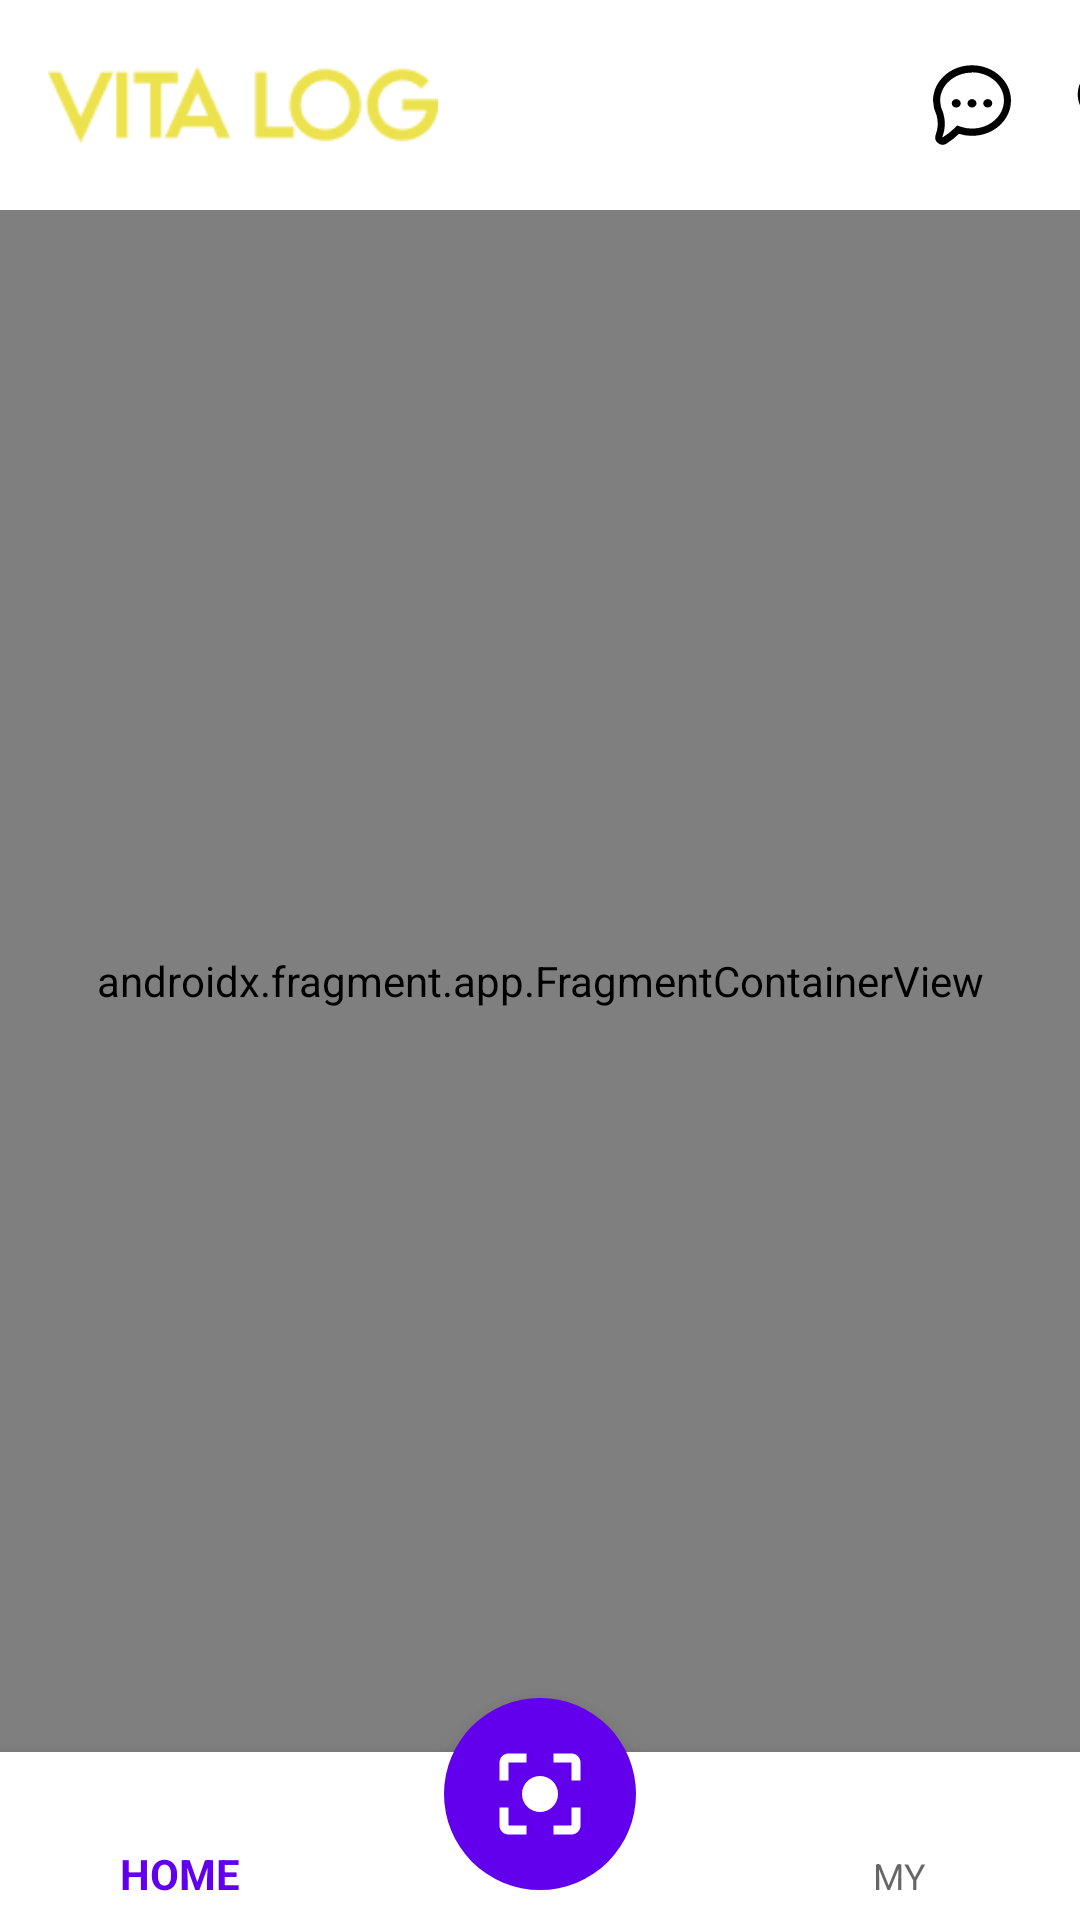

Icon bounding boxes for this 1080w x 1920h phone screenshot, format (x1, y1, x2, y2):
chat: (933, 65, 1011, 145)
search photo: (444, 1698, 636, 1890)
